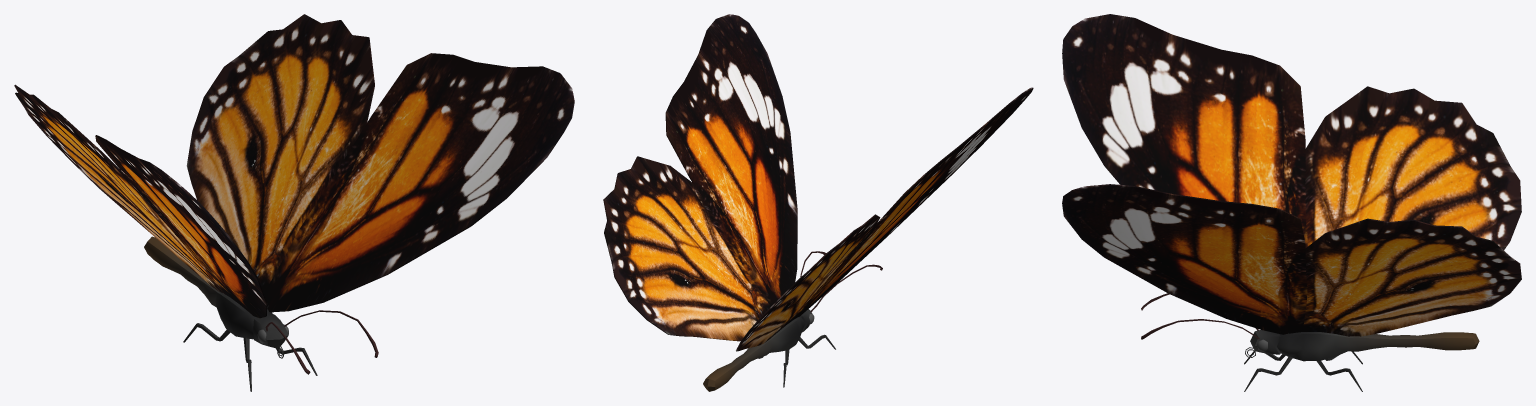
File: butterfly2.glb
3 renders of one model, left to right at view 1: azimuth 30°, elevation 25°; view 2: azimuth 150°, elevation 25°; view 3: azimuth 270°, elevation 25°, orthographic. The views are drawn at different scales.
Parts seen in each view (by area): view 1: Object_2, Object_4, Object_3; view 2: Object_2; view 3: Object_2, Object_4.
Boxes of the visible parts, left/top/right/bottom form: Object_2: left=14, top=14, right=574, bottom=348; Object_4: left=183, top=323, right=317, bottom=391; Object_3: left=265, top=310, right=378, bottom=374; Object_2: left=603, top=14, right=1033, bottom=391; Object_2: left=1062, top=14, right=1521, bottom=361; Object_4: left=1244, top=347, right=1362, bottom=391.
Bounding box in the file's own units: 16.25 × 12.37 × 18.47.
4 materials, 1 textured.
